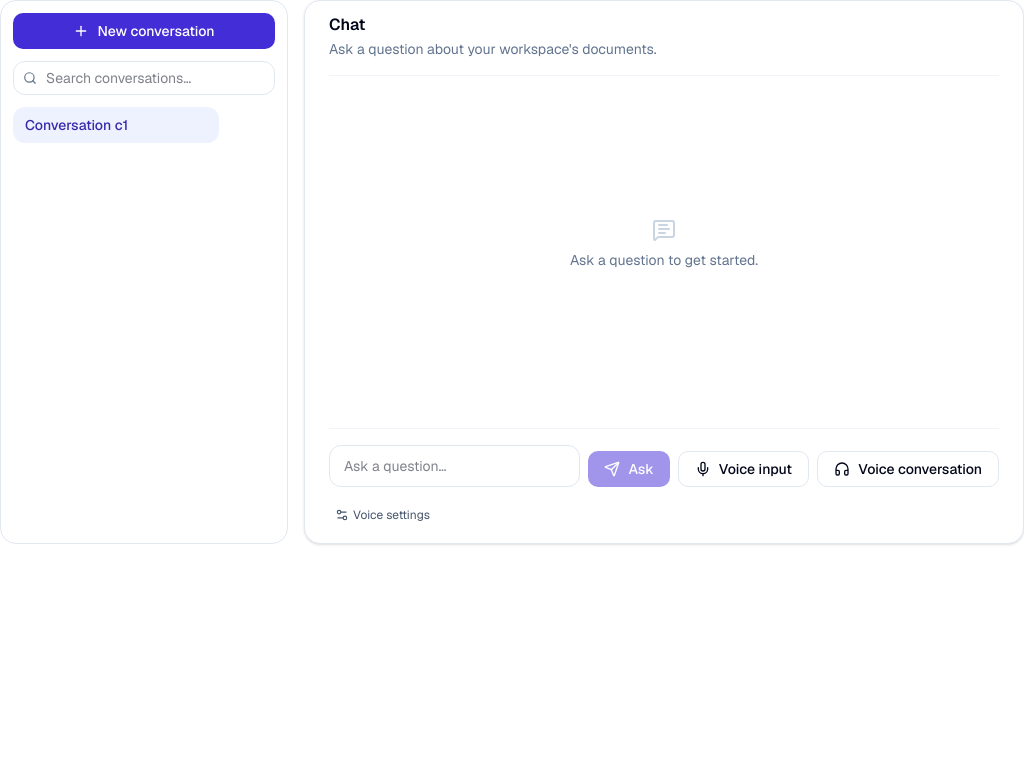
ChatPage › sends a question and appends the assistant's answer
Expected: the text "Ask a question to get started." is shown, [570, 250, 758, 270]
Type "What is the refund policy?" into the field labelled "Ask a question…".
click(455, 466); type("What is the refund policy?")  # box [329, 445, 580, 487]
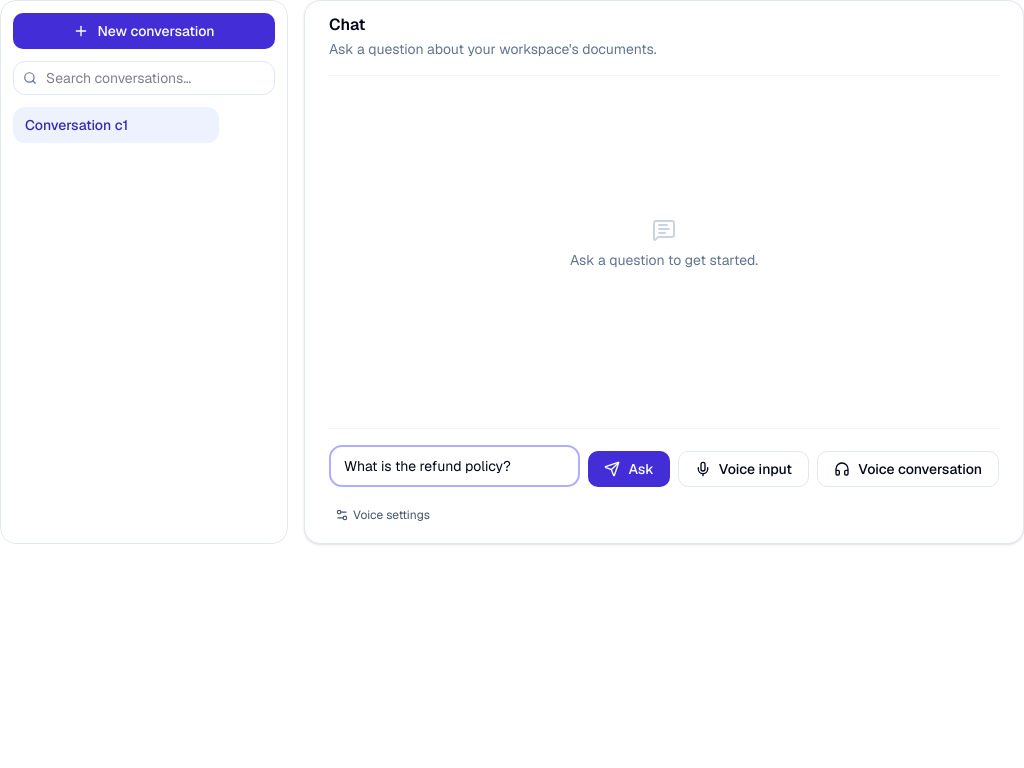
Click the button "Ask".
click(629, 469)  # box [588, 451, 670, 487]
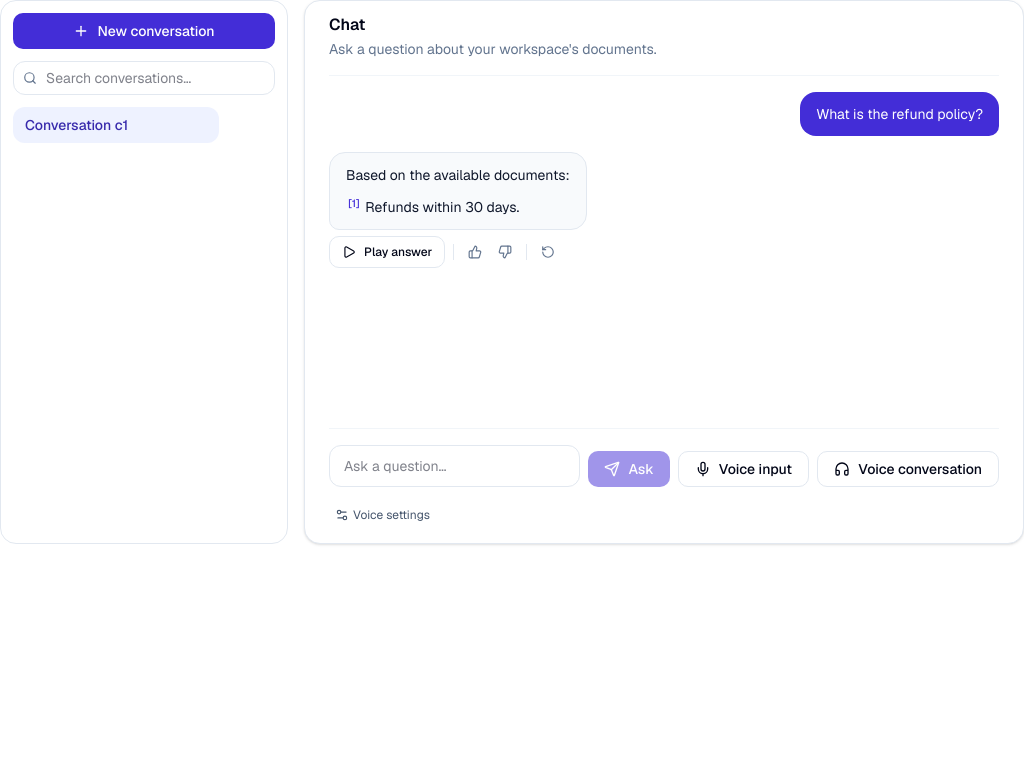
Now the text "[1] Refunds within 30 days." is shown, box [348, 196, 519, 216]
